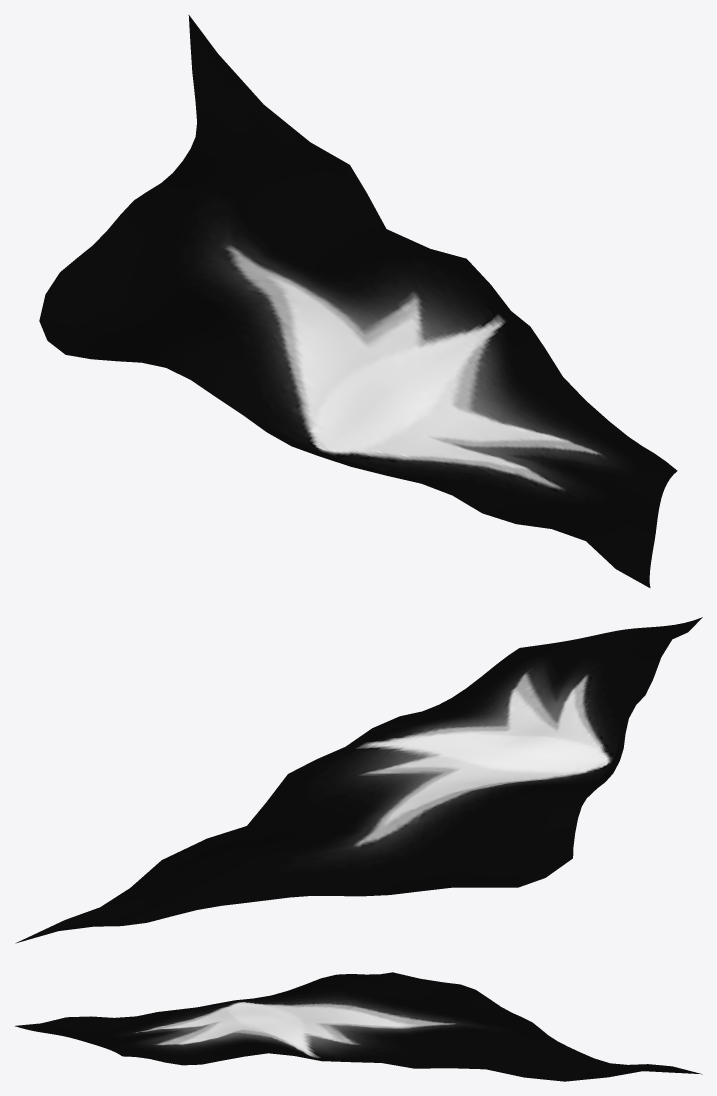
The model's file is 0248_chibang.glb.
The picture shows the model from 3 angles, top to bottom: view 1: azimuth 30°, elevation 25°; view 2: azimuth 150°, elevation 25°; view 3: azimuth 270°, elevation 25°; orthographic projection. The views are drawn at different scales.
Bounding box in the file's own units: 0.7988 × 0.0728 × 2.2.
Materials: 1 (1 with a texture image).
